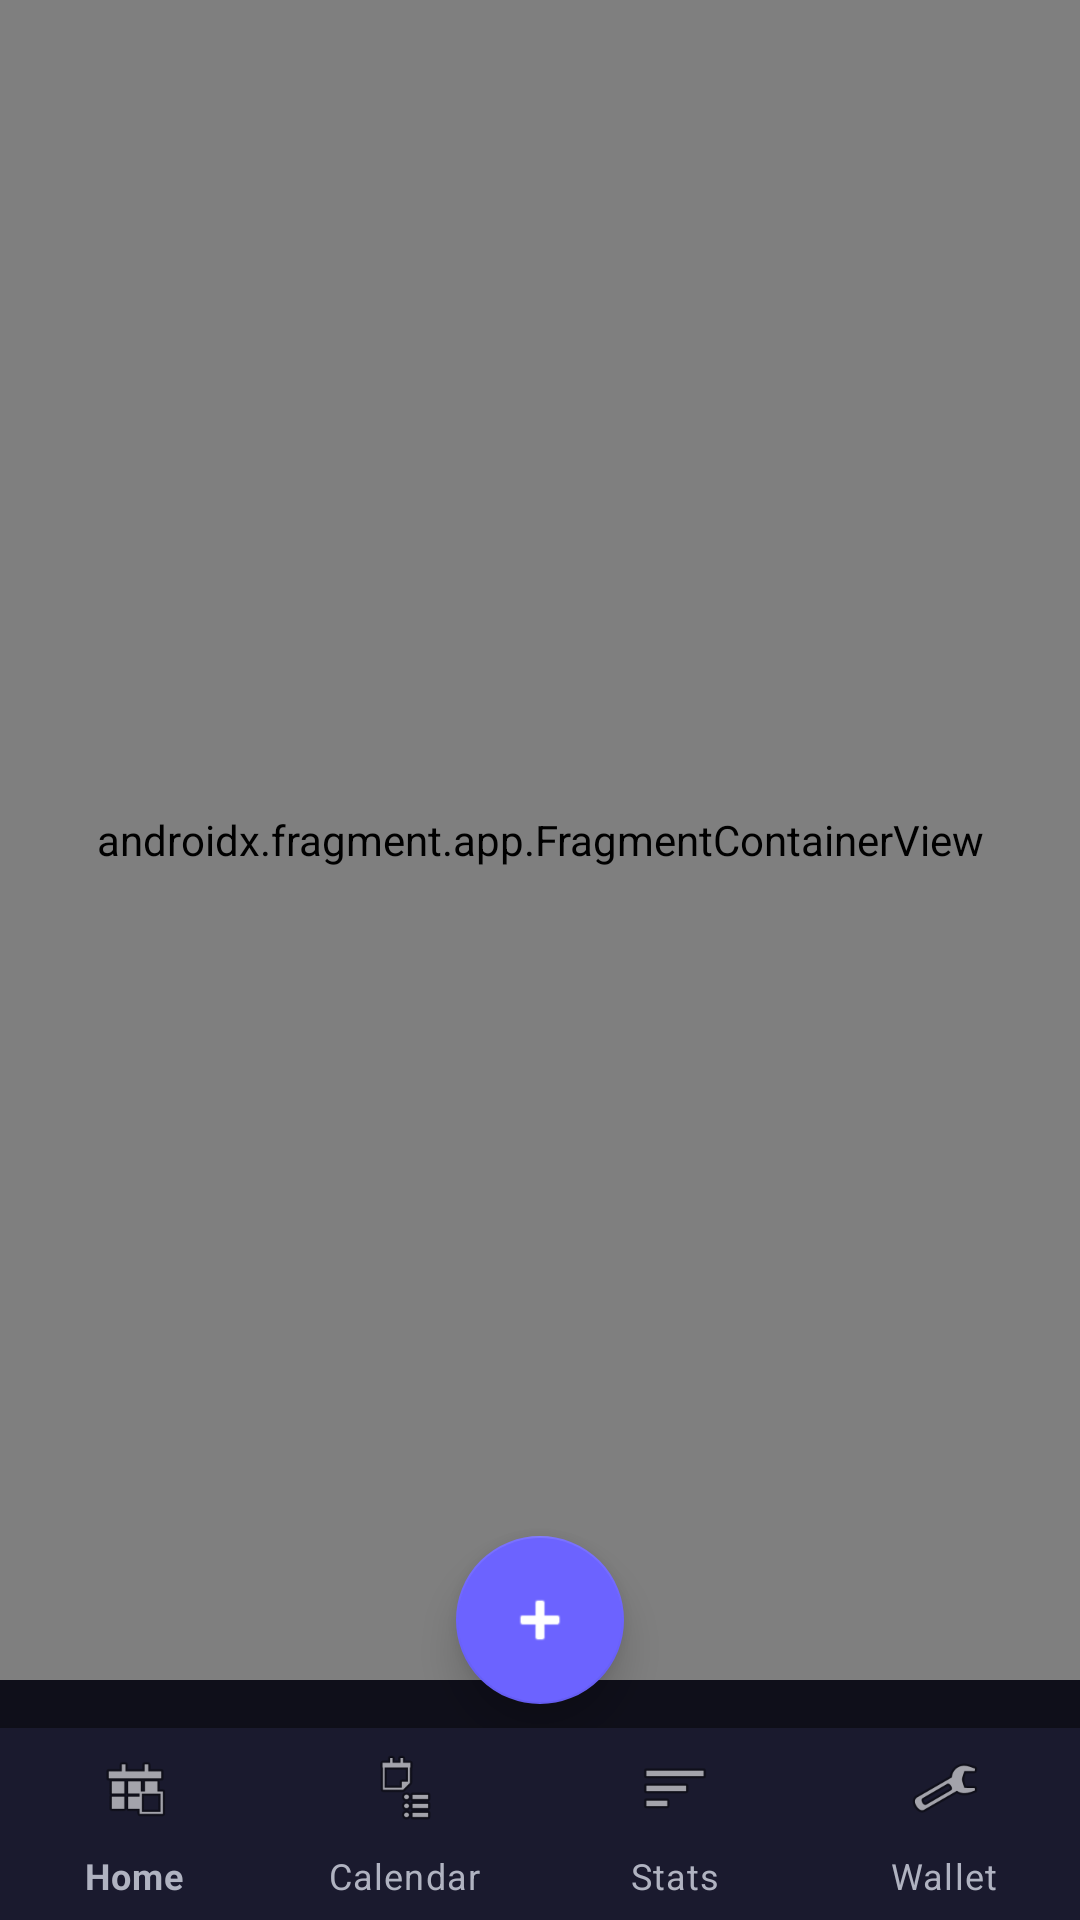

Where icons sit on this 1080×1920 app screen, as BBox(x1, y1, x2, y2):
Add Expense: BBox(456, 1536, 624, 1704)
